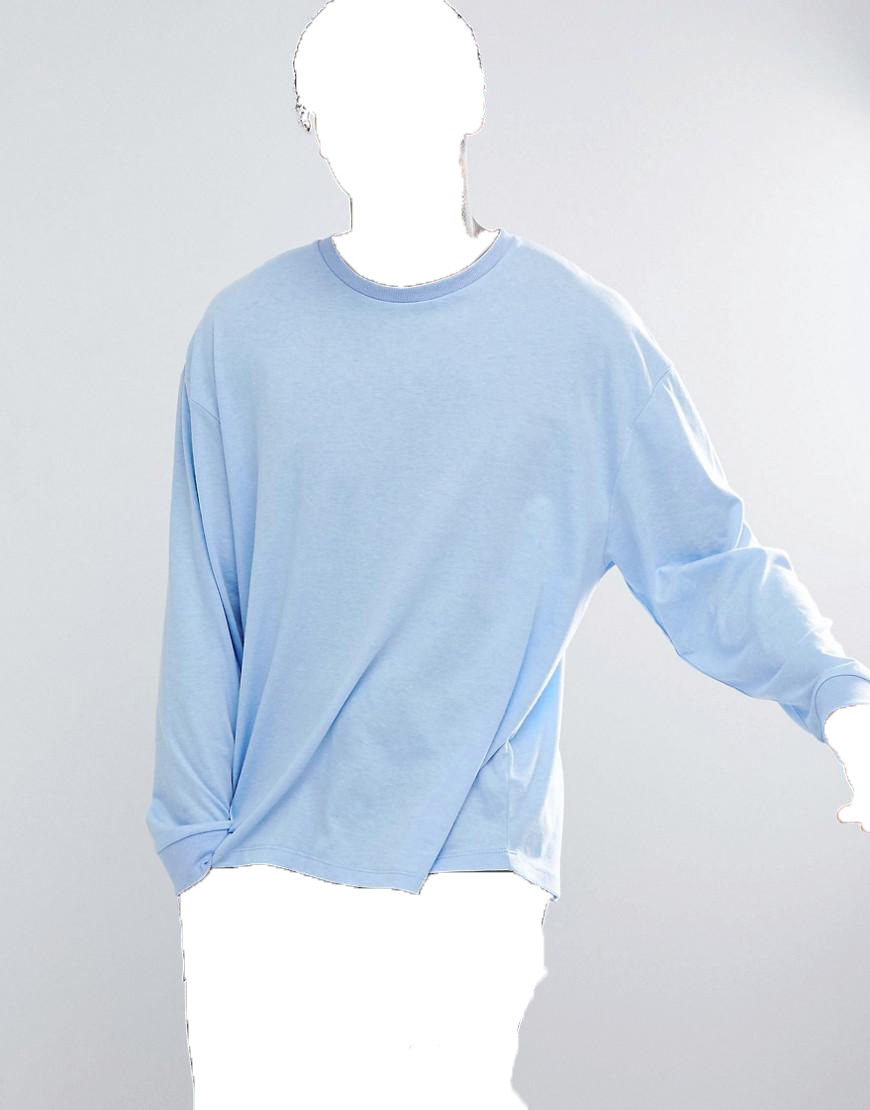teeshirt: (147, 225, 870, 925)
